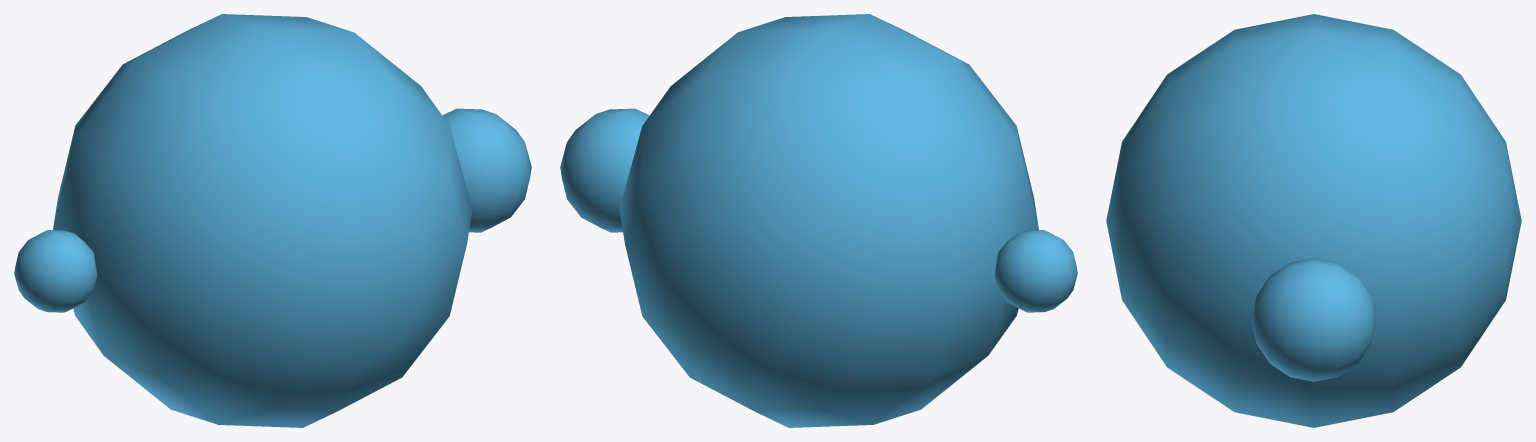
3 views of the same model, side by side, from view 1: azimuth 30°, elevation 25°; view 2: azimuth 150°, elevation 25°; view 3: azimuth 270°, elevation 25° (orthographic).
Visible parts, largest first — view 1: Leafy Sea Dragon; view 2: Leafy Sea Dragon; view 3: Leafy Sea Dragon.
Boxes of the visible parts, x1,y1,x2,y2 form: Leafy Sea Dragon: (14, 14, 531, 427); Leafy Sea Dragon: (560, 14, 1077, 427); Leafy Sea Dragon: (1106, 14, 1521, 427).
Size of the model in its own units: 1.49 by 1.08 by 1.08.
